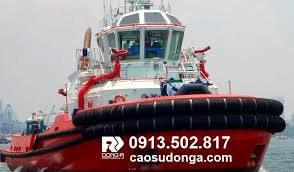tau_dansu: (9, 22, 270, 172)
